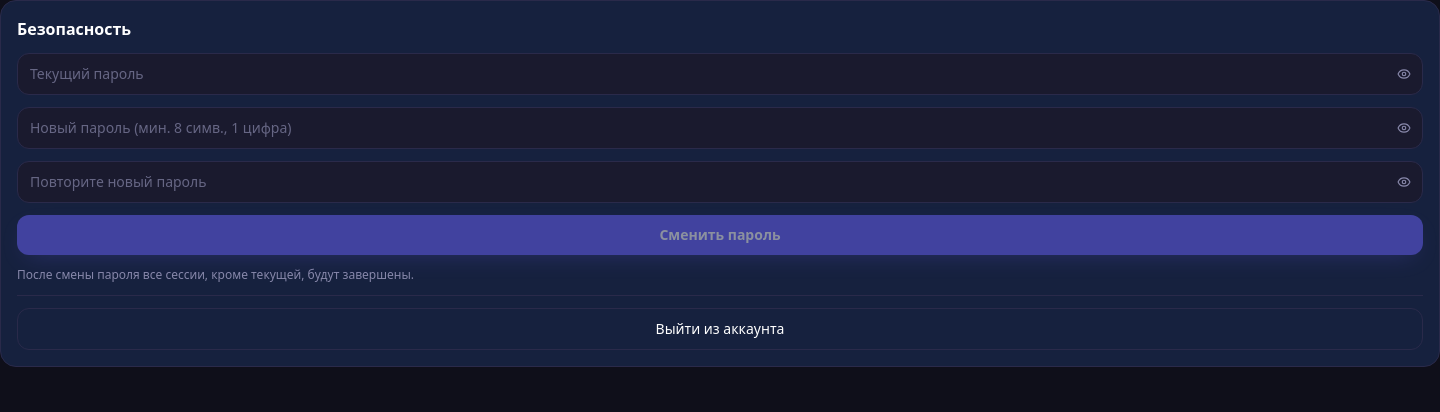
Test: смена пароля в профиле › несовпадение — ошибка под полем, запрос не уходит
Type "Old1pass" into the password field with placeholder "Текущий пароль".
click(720, 74); type("Old1pass")  # box [17,53,1423,95]
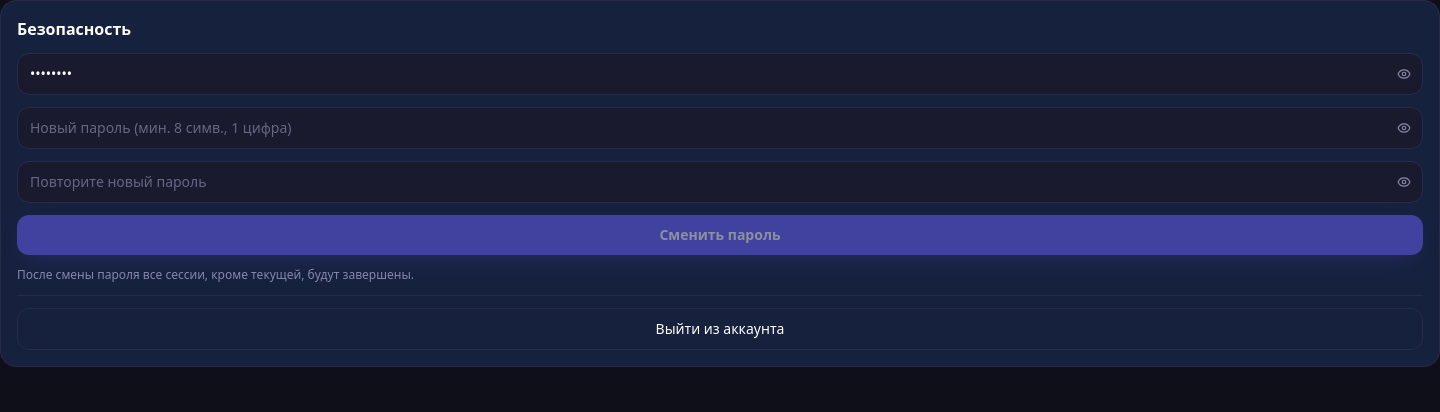
Type "New2pass" into the password field with placeholder "Новый пароль (мин. 8 симв., 1 цифра)".
click(720, 128); type("New2pass")  # box [17,107,1423,149]
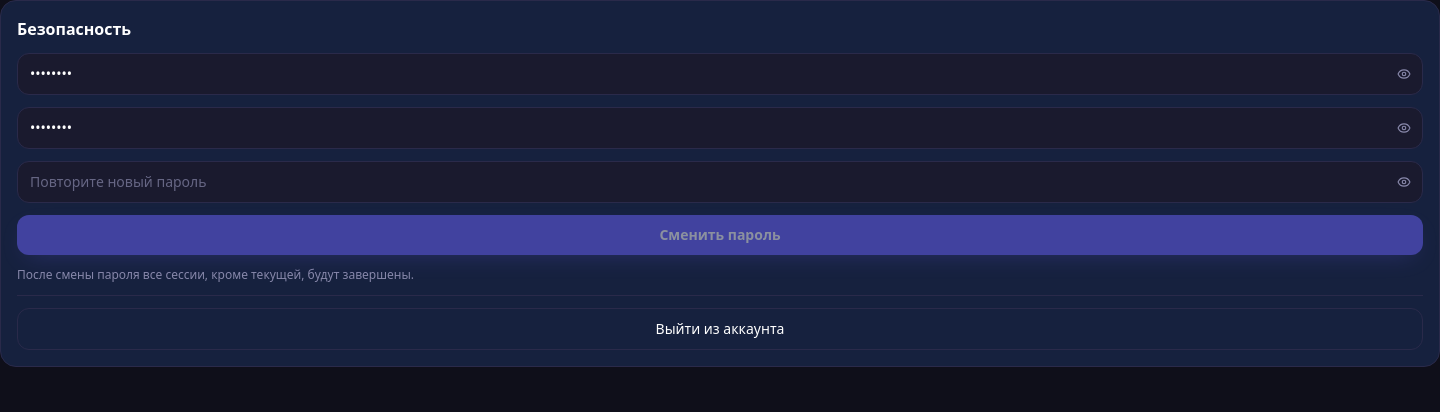
Type "New2pasx" into the password field with placeholder "Повторите новый пароль".
click(720, 182); type("New2pasx")  # box [17,161,1423,203]
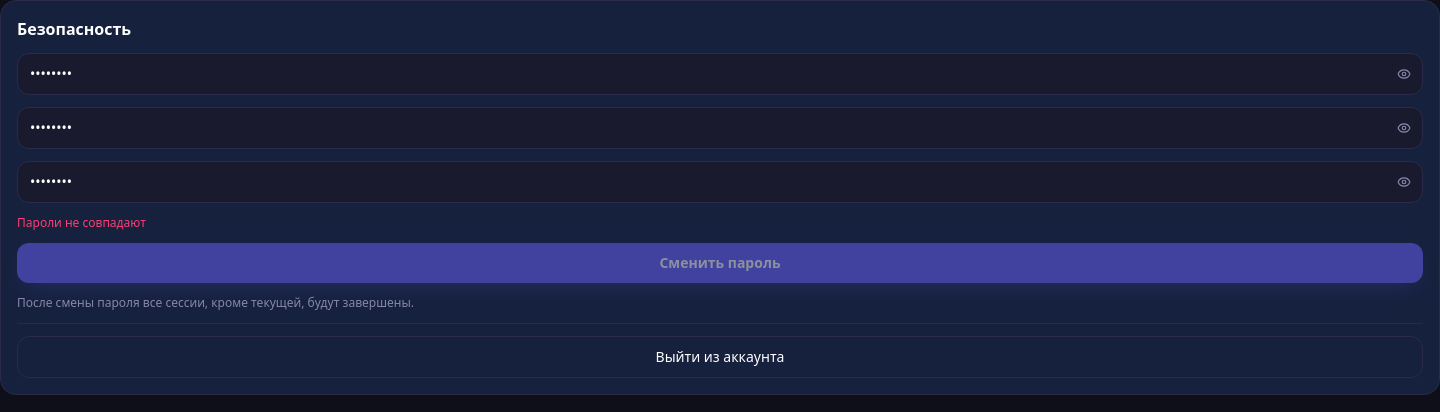
Expected: the button "Сменить пароль" is disabled, [17,243,1423,283]
Expected: the message reads "Пароли не совпадают", [17,214,146,231]
